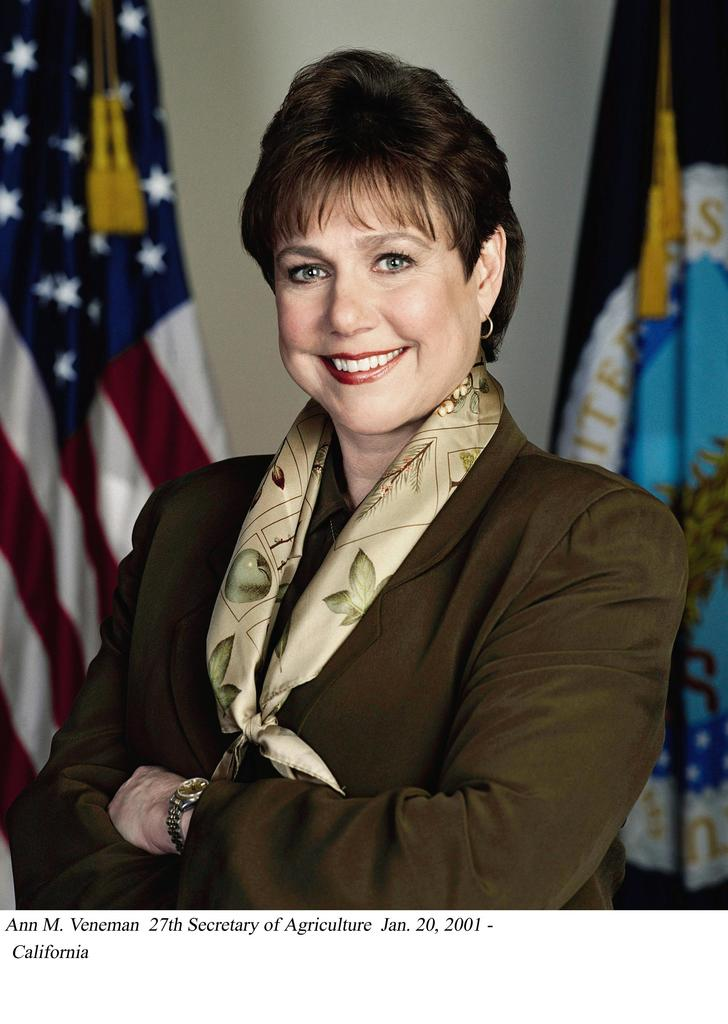Human_hand: (102, 754, 189, 848)
